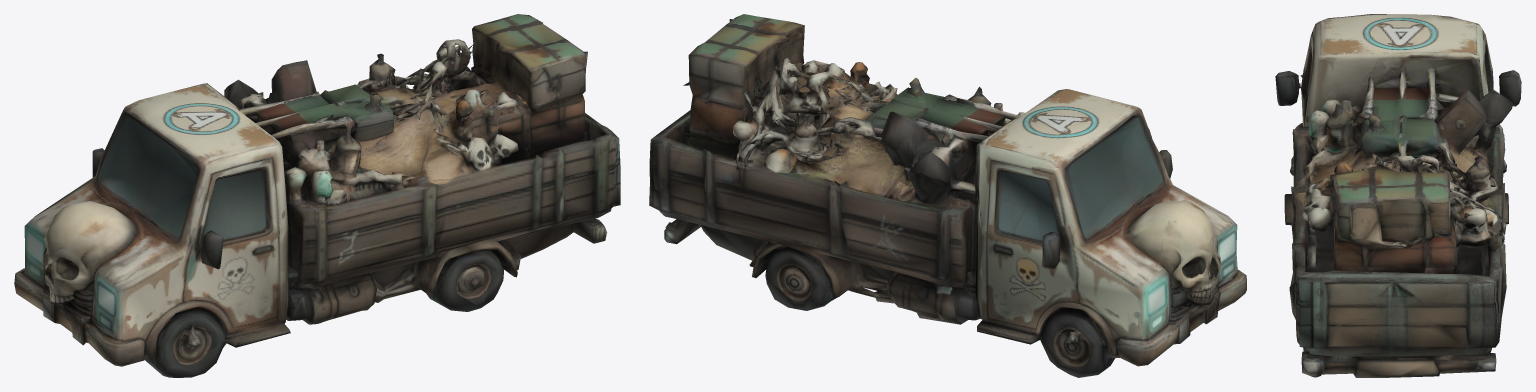
The picture shows the model from 3 angles, left to right: view 1: azimuth 30°, elevation 25°; view 2: azimuth 150°, elevation 25°; view 3: azimuth 270°, elevation 25°; orthographic projection.
Parts seen in each view (by area): view 1: Mesh_0; view 2: Mesh_0; view 3: Mesh_0.
Boxes of the visible parts, bbox=[...] form: Mesh_0: bbox=[14, 14, 620, 377]; Mesh_0: bbox=[649, 14, 1246, 377]; Mesh_0: bbox=[1275, 14, 1521, 377].
Bounding box in the file's own units: 200 × 78.93 × 82.25.
Materials: 1 (1 with a texture image).
